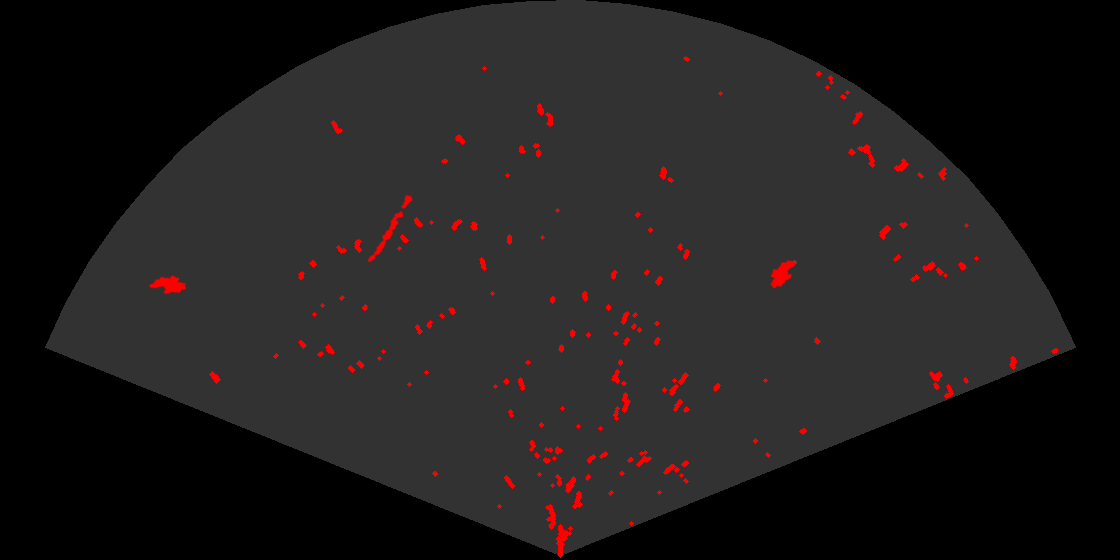AUV: (147, 274, 188, 296), (769, 259, 798, 290)
chain: (366, 190, 416, 264)
